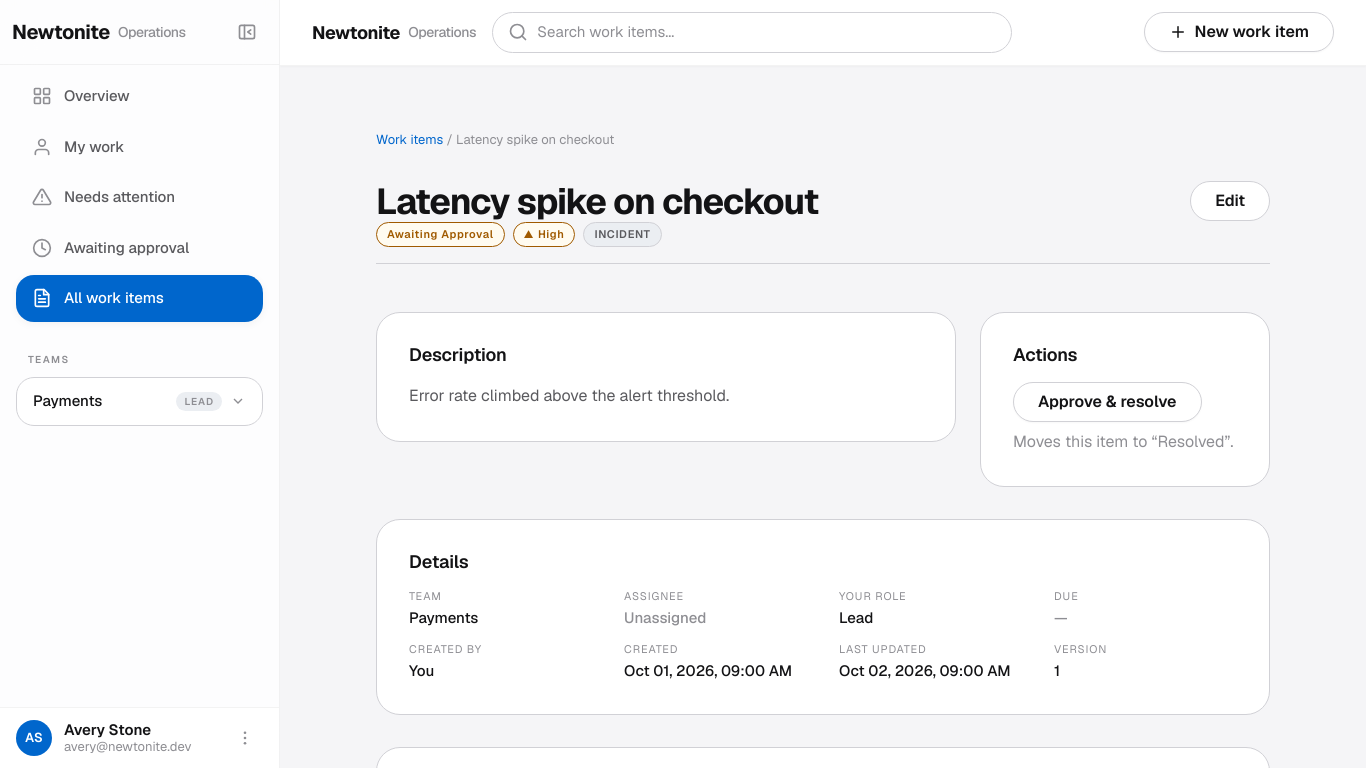
Scenario: ItemDetailPage › reports a permission failure from the server
Expected: the heading "Latency spike on checkout" is shown, [376,181,818,222]
Click the button "Approve & resolve". click: (1107, 402)
box: [1013,382,1202,422]
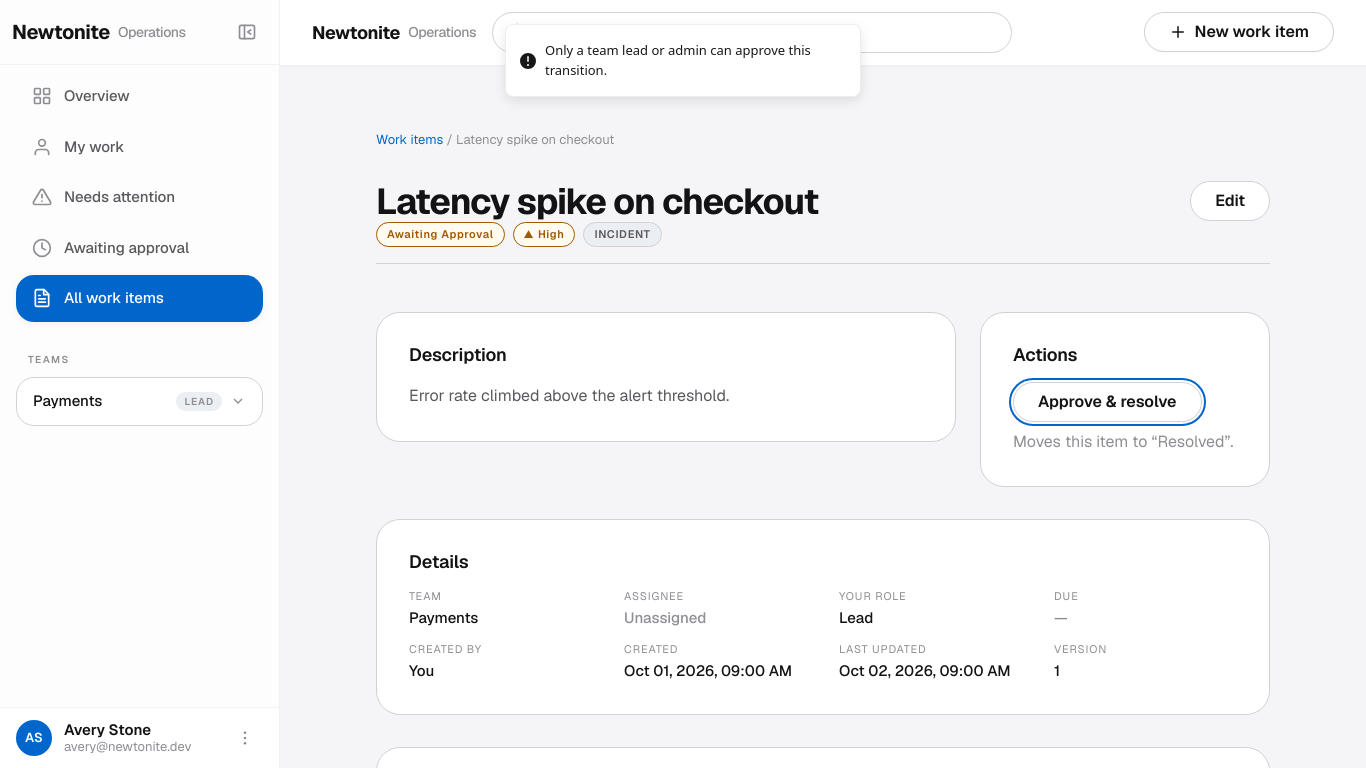
Result: the text "Only a team lead or admin can approve this transition." is shown at [545,41,844,80]
